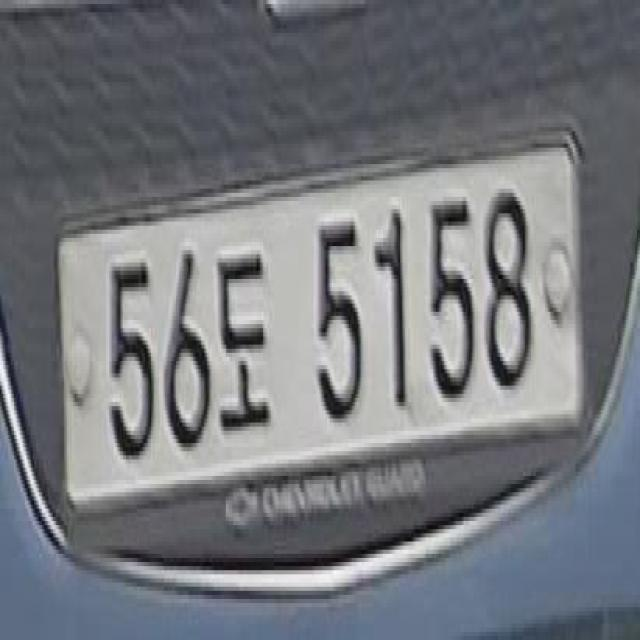illegal_plate: (59, 135, 595, 536)
